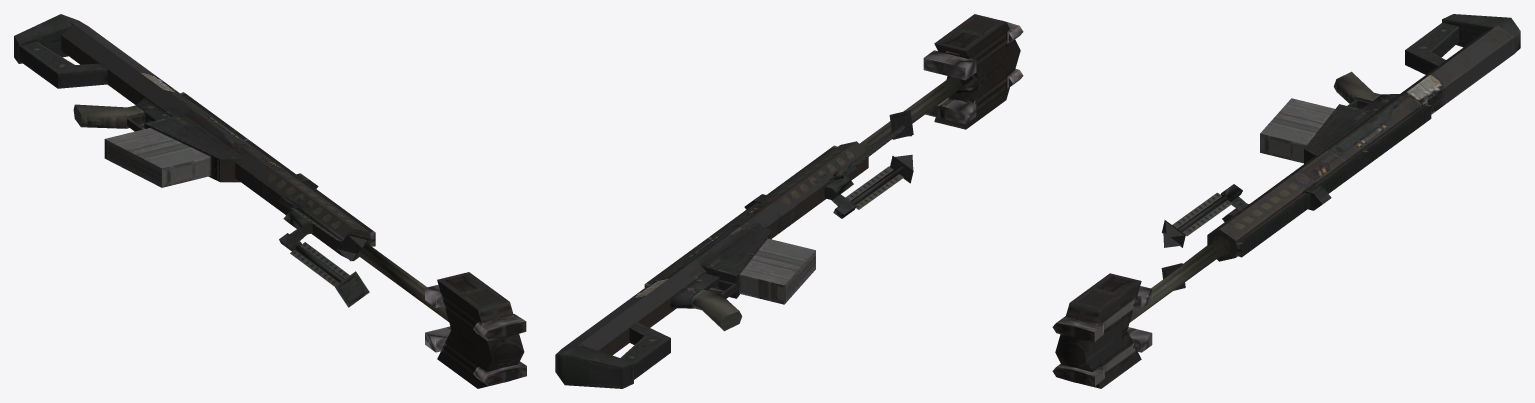
Rendered from Pickup_WeaponJjq01.glb.
3 views of the same model, side by side, from view 1: azimuth 30°, elevation 25°; view 2: azimuth 150°, elevation 25°; view 3: azimuth 330°, elevation 25° (orthographic).
Visible parts, largest first — view 1: pk_weapon_jjq01; view 2: pk_weapon_jjq01; view 3: pk_weapon_jjq01.
Boxes of the visible parts, left/top/right/bottom form: pk_weapon_jjq01: left=14, top=14, right=526, bottom=388; pk_weapon_jjq01: left=555, top=14, right=1023, bottom=388; pk_weapon_jjq01: left=1052, top=14, right=1520, bottom=388.
Size of the model in its own units: 1.01 by 0.6235 by 6.36.
Materials: 1 (1 with a texture image).
